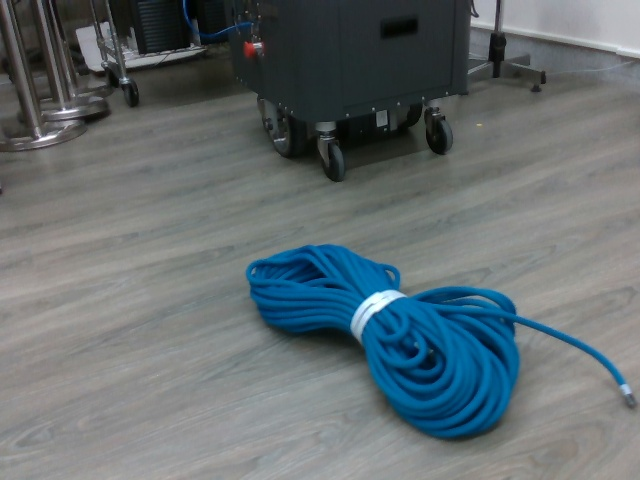rope: (244, 241, 637, 439)
